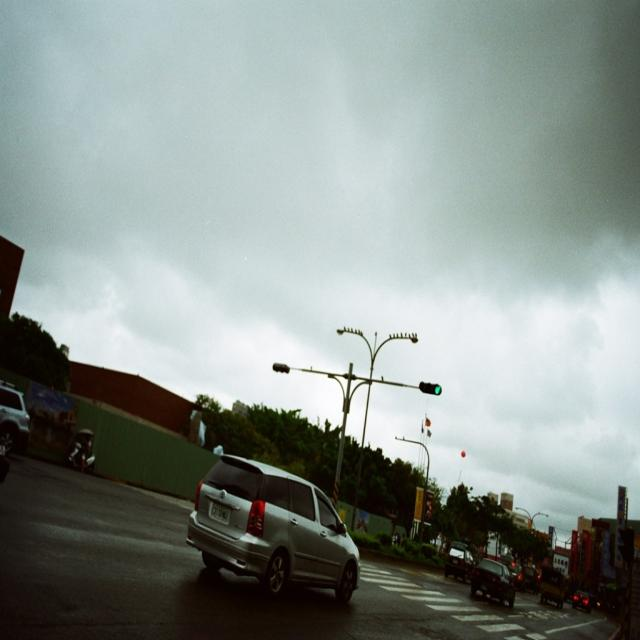car: (184, 460, 360, 610), (470, 560, 517, 603), (571, 588, 591, 610)
